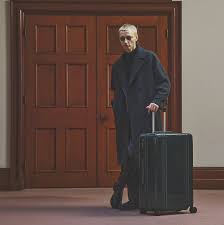suitcase: (134, 105, 195, 216)
